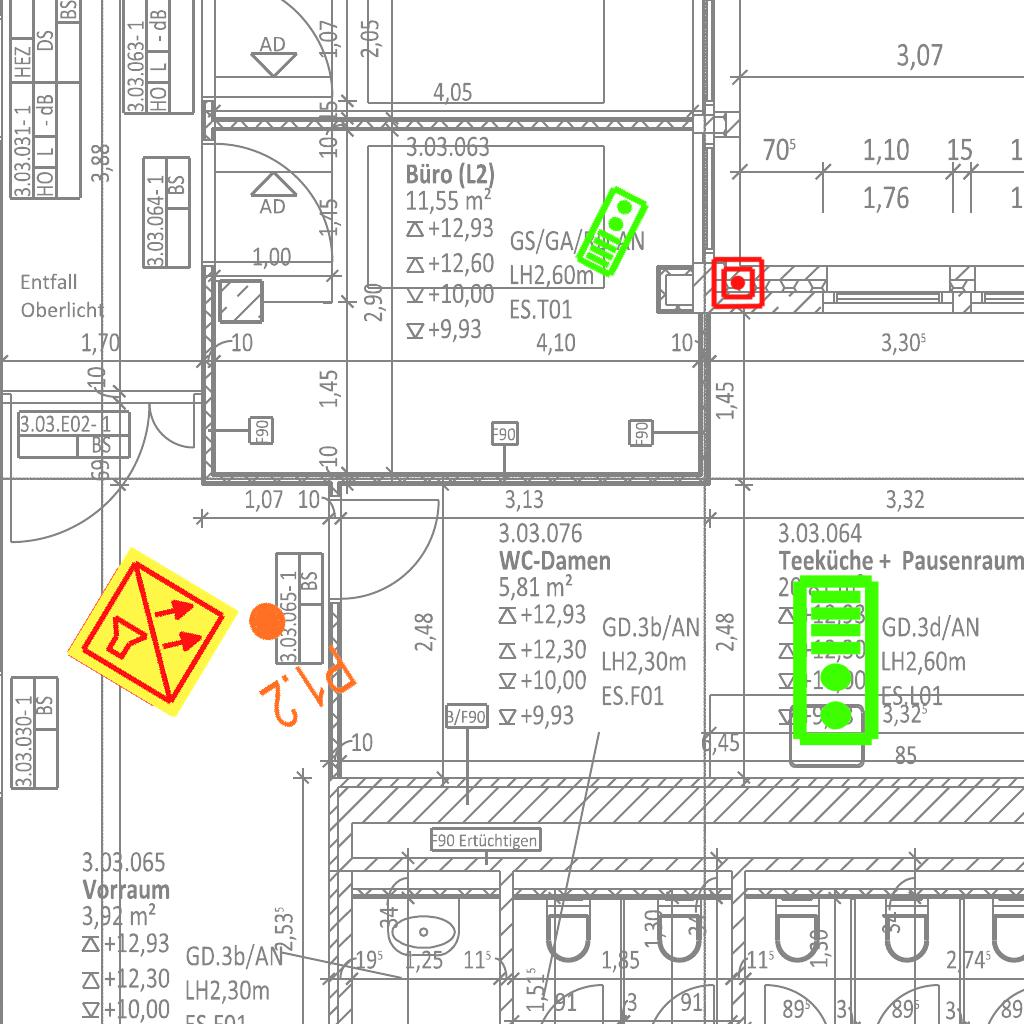Downlight_LED_Einbauleuchten_Flur: (214, 577, 363, 737)
Gegensprechanlage_mit_Video: (790, 573, 885, 749), (570, 181, 653, 281)
NAM-Nichtautomatischer_Melder: (710, 255, 766, 311)
OKW_Multisensormelder_(Kombination_optischer_Rauch-Kahlenmonoxid_Waerme-Melder): (62, 542, 244, 724)
